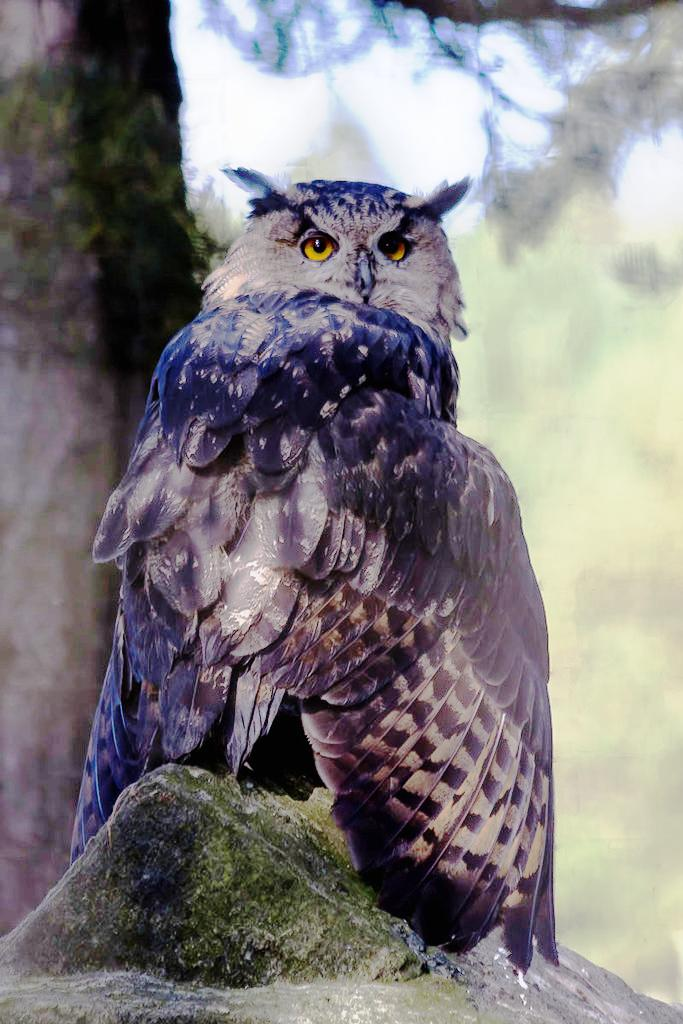Owl: (68, 160, 562, 980)
